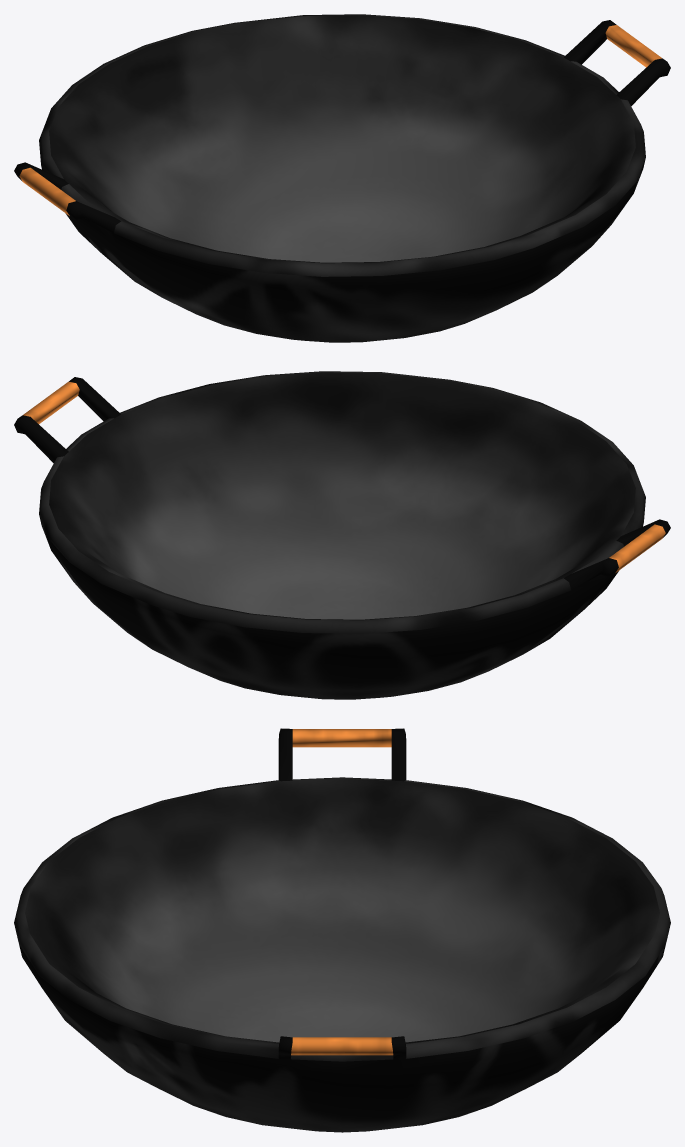
File: wok.glb
3 views of the same model, one above another, from view 1: azimuth 30°, elevation 25°; view 2: azimuth 150°, elevation 25°; view 3: azimuth 270°, elevation 25° (orthographic). The views are drawn at different scales.
Parts seen in each view (by area): view 1: Wok; view 2: Wok; view 3: Wok.
Part boxes in pixels (x1,y1,x2,y2): Wok: (14,14,670,342); Wok: (14,371,670,699); Wok: (14,728,670,1132).
Size of the model in its own units: 2.15 by 0.6601 by 1.89.
Materials: 1 (1 with a texture image).
